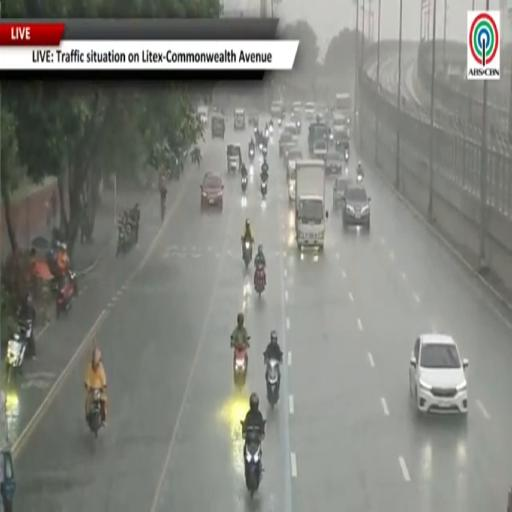car: (410, 333, 468, 414), (343, 184, 370, 230), (201, 173, 224, 211), (331, 126, 350, 161), (284, 147, 303, 178), (333, 175, 349, 211), (325, 151, 344, 174), (227, 144, 242, 173), (279, 132, 296, 156), (212, 114, 225, 139), (313, 139, 327, 159), (283, 121, 299, 138), (234, 109, 245, 131), (291, 111, 301, 134), (271, 101, 284, 118), (304, 102, 316, 120), (198, 106, 208, 124), (248, 112, 258, 127), (291, 102, 302, 115)
motorcycle: (6, 319, 32, 385), (243, 427, 263, 498), (56, 270, 78, 318), (234, 337, 250, 390), (87, 389, 101, 437), (266, 359, 279, 407), (254, 263, 266, 297), (117, 224, 126, 255), (243, 240, 252, 268), (161, 198, 166, 221), (261, 180, 267, 199), (248, 146, 255, 162), (242, 176, 247, 193), (258, 141, 264, 152), (262, 144, 267, 157), (357, 173, 363, 183), (265, 128, 270, 138), (269, 125, 273, 135), (345, 150, 348, 162), (278, 118, 282, 126)
truck: (295, 160, 328, 250), (308, 123, 329, 156), (333, 93, 352, 123)
